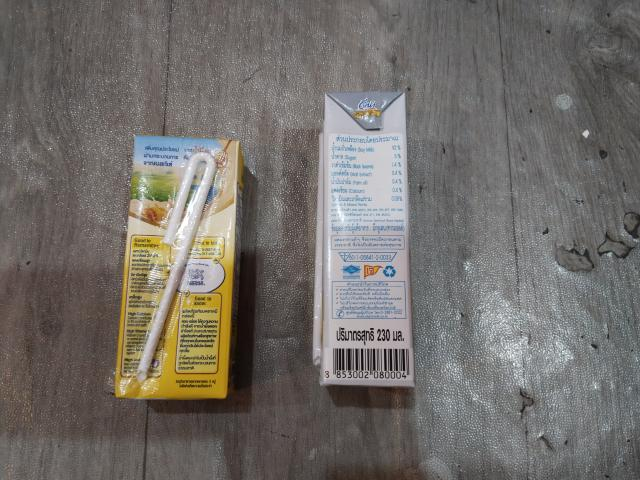drink_box: (121, 130, 244, 406), (310, 87, 419, 395)
